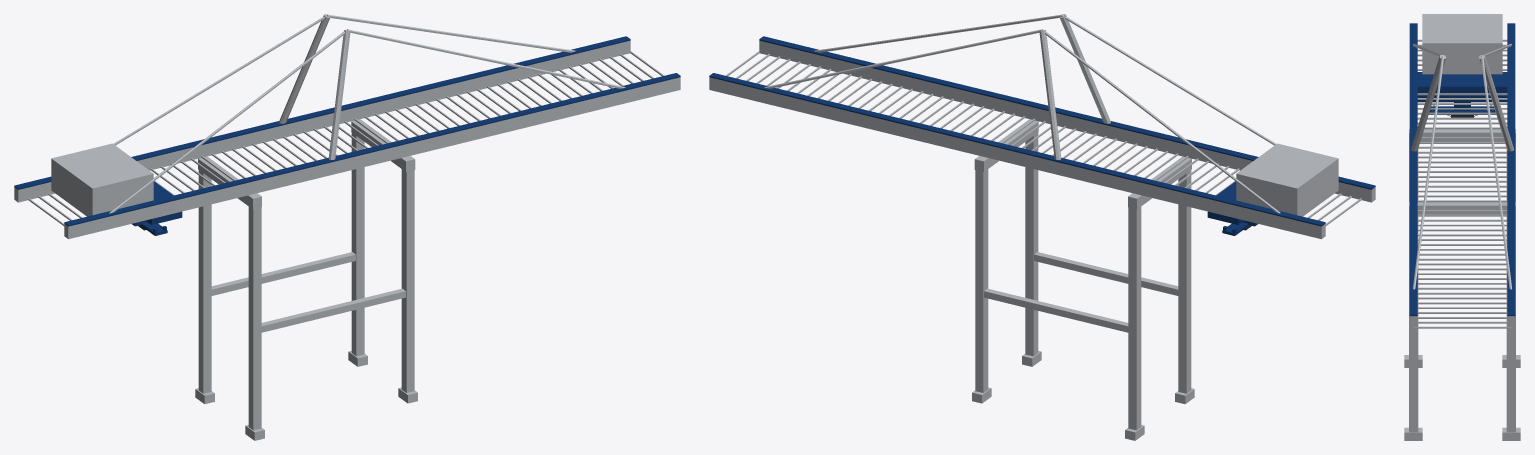
File: crane.glb
3 renders of one model, left to right at view 1: azimuth 30°, elevation 25°; view 2: azimuth 150°, elevation 25°; view 3: azimuth 270°, elevation 25°, orthographic. The views are drawn at different scales.
Parts seen in each view (by area): view 1: crane; view 2: crane; view 3: crane, trolley, spreader.
Part boxes in pixels (bbox=[...]): crane: bbox=[14, 14, 680, 440]; crane: bbox=[709, 14, 1375, 440]; crane: bbox=[1404, 14, 1520, 440]; trolley: bbox=[1417, 72, 1507, 117]; spreader: bbox=[1429, 106, 1495, 114].
Size of the model in its own units: 120 by 69.24 by 20.19.
